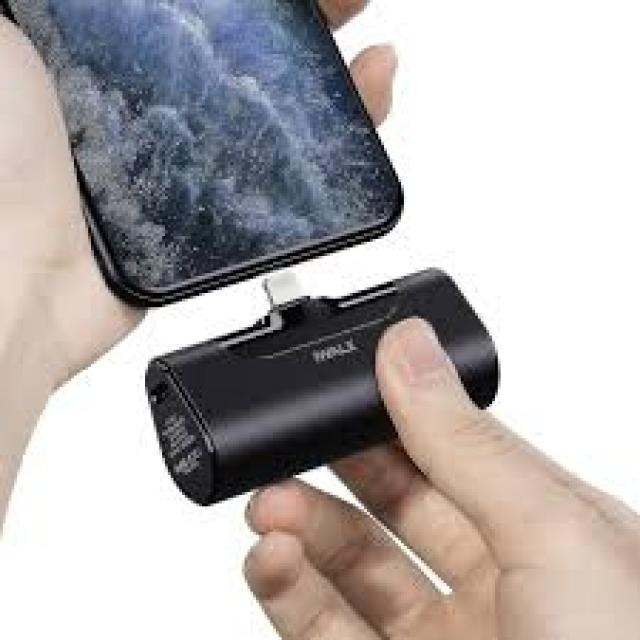portable-charger: (140, 267, 505, 505)
